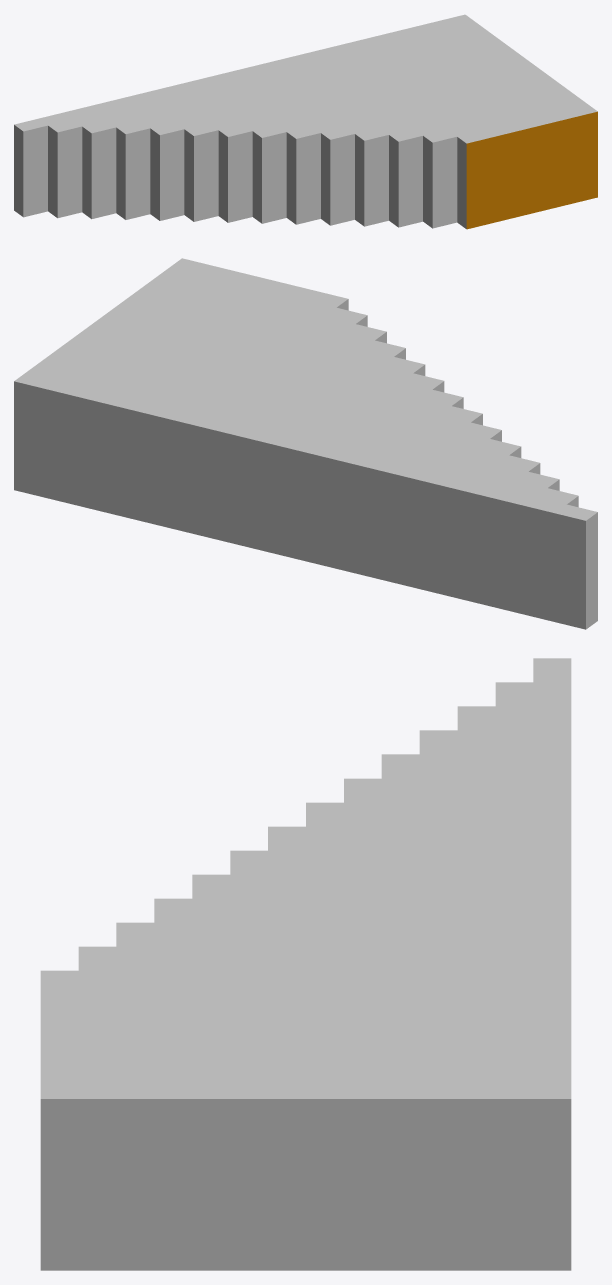
File: Stairs.obj
3 renders of one model, top to bottom at view 1: azimuth 30°, elevation 25°; view 2: azimuth 150°, elevation 25°; view 3: azimuth 270°, elevation 25°, orthographic. The views are drawn at different scales.
Visible parts, largest first — view 1: Stairs; view 2: Stairs; view 3: Stairs.
Boxes of the visible parts, x1,y1,x2,y2 form: Stairs: (14,14,597,229); Stairs: (14,258,597,629); Stairs: (40,658,571,1270).
Bounding box in the file's own units: 5.5 × 1 × 2.8.
